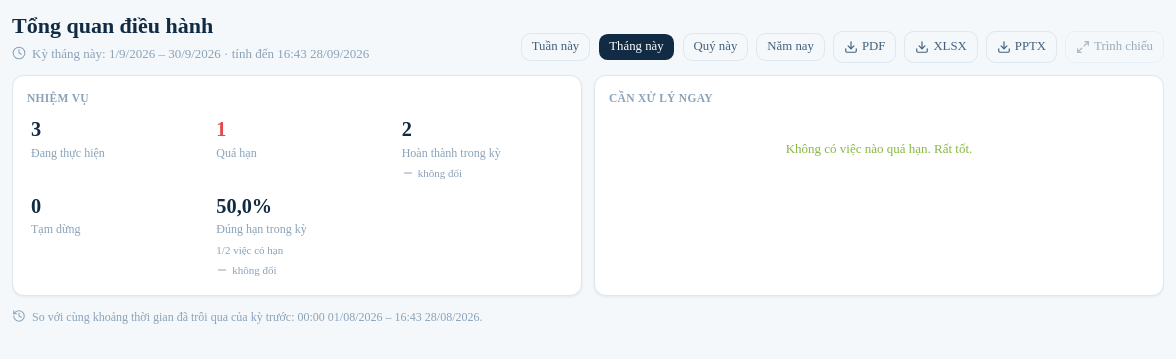
Scenario: Tổng quan export — the click › a failed build shows the Vietnamese sentence and saves nothing; the buttons come back
Click the button "XLSX" at (941, 47), box [904,31,978,63]
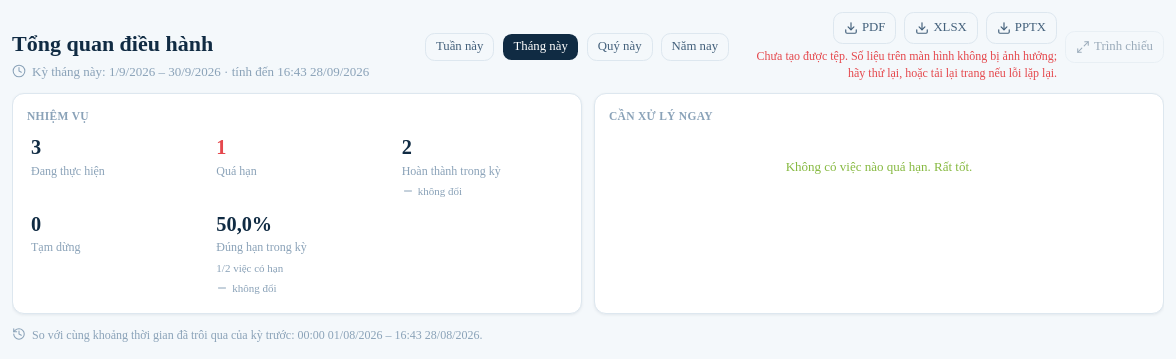
Expected: the button "PDF" is enabled, [833,12,896,44]
Now the 1st message shows "Chưa tạo được tệp. Số liệu trên màn hình không bị ảnh hưởng; hãy thử lại, hoặc tải lại trang nếu lỗi lặp lại.", box [757,49,1057,80]
